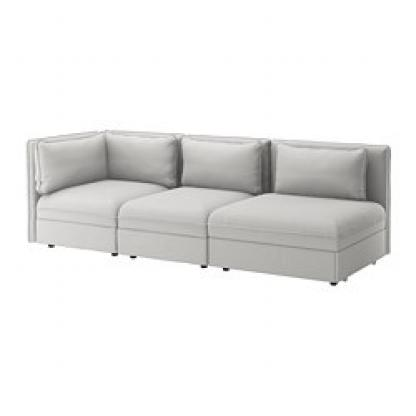Sofa: (19, 122, 394, 290)
